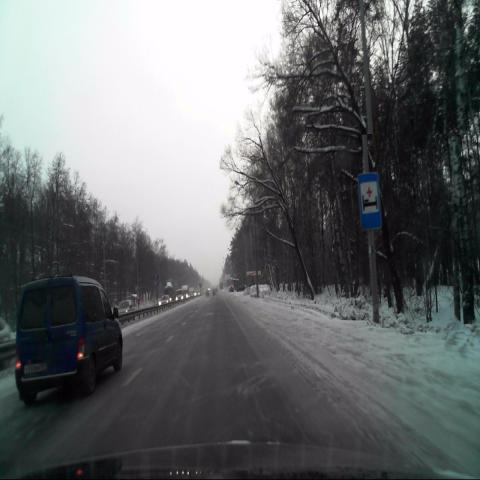7_2: (358, 171, 382, 231)
